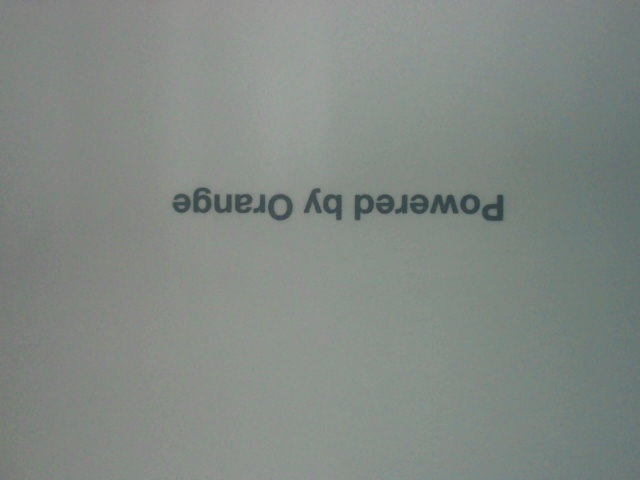AS_PowerByOrange: (155, 178, 541, 229)
